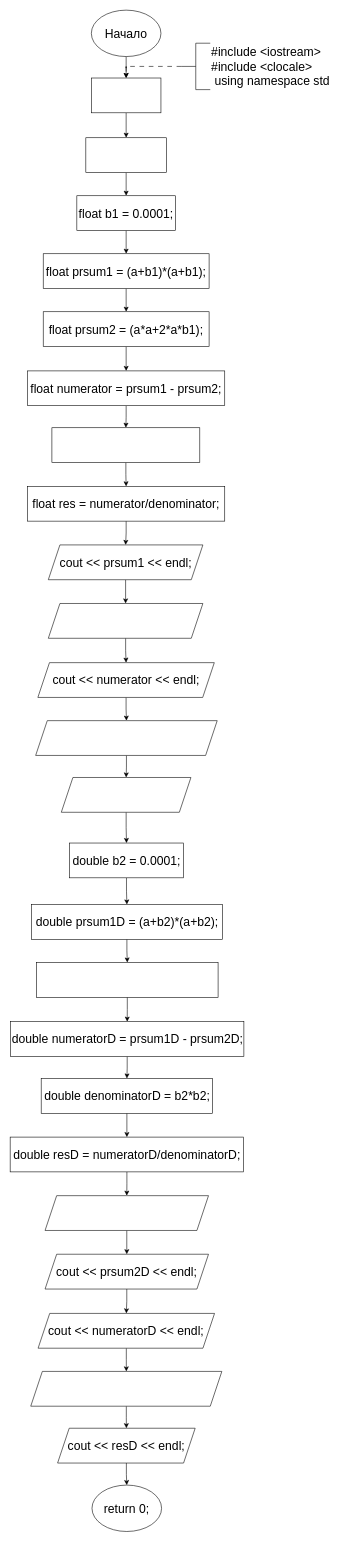
The diagram is 340 pixels wide and 1542 high, and some of its shapes have lost their labels. The shapes that lost their labels are listed below. From the top down, each one's box as (x1, y1, x2, y2) in pixels, then its label:
(91, 77, 161, 113): int main()
(85, 137, 166, 173): int a = 1000;
(51, 427, 200, 463): float denominator = b1*b1;
(48, 603, 203, 638): cout << prsum2 << endl;
(35, 720, 217, 755): cout << denominator << endl;
(61, 777, 191, 812): cout << res << endl;
(36, 962, 218, 997): double prsum2D = (a*a+2*a*b2);
(44, 1195, 209, 1230): cout << prsum1D << endl;
(30, 1371, 222, 1406): cout << denominatorD << endl;
